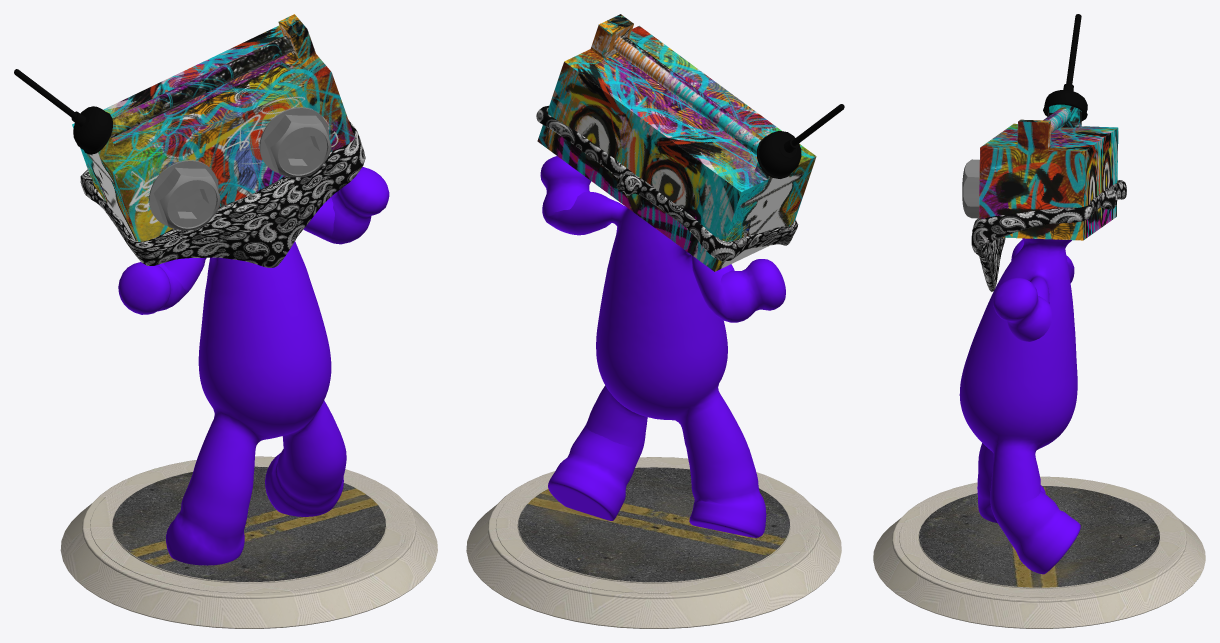
3 views of the same model, side by side, from view 1: azimuth 30°, elevation 25°; view 2: azimuth 150°, elevation 25°; view 3: azimuth 270°, elevation 25° (orthographic). The views are drawn at different scales.
Visible parts, largest first — view 1: BBody; view 2: BBody; view 3: BBody.
Part boxes in pixels (left/top/right/bottom): BBody: left=14, top=14, right=437, bottom=628; BBody: left=466, top=14, right=844, bottom=628; BBody: left=873, top=14, right=1205, bottom=628.
Bounding box in the file's own units: 1.66 × 2.2 × 1.45.
Materials: 7 (4 with a texture image).
